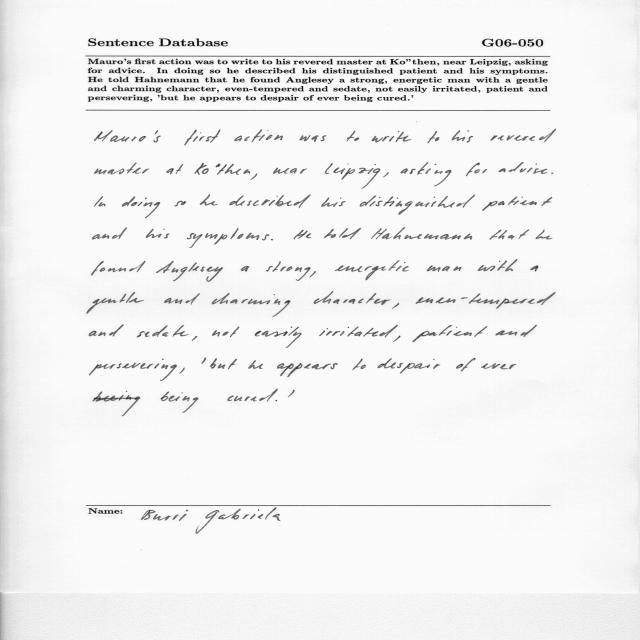word: (416, 292, 556, 309), (360, 195, 475, 215), (89, 359, 177, 381), (212, 293, 290, 317), (187, 228, 269, 248), (335, 260, 409, 280), (325, 163, 380, 189), (156, 261, 223, 282), (371, 227, 472, 240), (413, 325, 488, 342), (87, 292, 144, 314), (401, 163, 452, 187), (93, 391, 140, 416), (229, 195, 311, 208), (314, 291, 390, 305), (482, 196, 552, 211), (319, 325, 398, 338), (255, 326, 301, 348), (378, 358, 441, 374), (491, 129, 556, 143), (266, 261, 311, 281), (94, 130, 161, 143), (277, 363, 338, 377), (122, 197, 160, 218), (161, 392, 199, 413), (92, 261, 146, 275), (227, 389, 278, 402), (95, 163, 150, 175), (195, 163, 250, 175), (234, 129, 283, 142), (137, 325, 189, 337), (499, 162, 548, 174), (185, 130, 221, 146), (495, 325, 537, 337), (478, 260, 517, 272), (93, 227, 128, 240), (371, 131, 412, 142), (490, 229, 530, 240), (164, 293, 200, 305), (89, 325, 124, 337), (324, 228, 361, 239), (210, 358, 237, 369), (212, 327, 240, 337), (452, 130, 473, 143), (466, 163, 487, 176), (321, 197, 346, 207), (456, 358, 475, 371), (427, 265, 462, 272), (146, 229, 170, 239), (481, 363, 516, 369), (273, 168, 307, 174), (200, 195, 218, 206), (300, 135, 327, 142), (294, 230, 312, 240), (167, 164, 184, 174), (536, 230, 553, 240), (427, 131, 440, 143), (352, 359, 366, 370), (248, 360, 263, 369), (347, 131, 360, 141), (95, 196, 106, 207), (175, 201, 187, 206), (530, 266, 539, 272), (288, 390, 295, 397), (241, 266, 249, 272), (393, 336, 401, 342), (251, 173, 257, 180), (392, 303, 399, 309), (310, 271, 316, 277), (179, 368, 185, 374), (383, 173, 389, 178), (201, 358, 206, 364), (192, 336, 197, 341), (551, 173, 554, 174), (271, 239, 273, 240), (276, 400, 278, 401)
